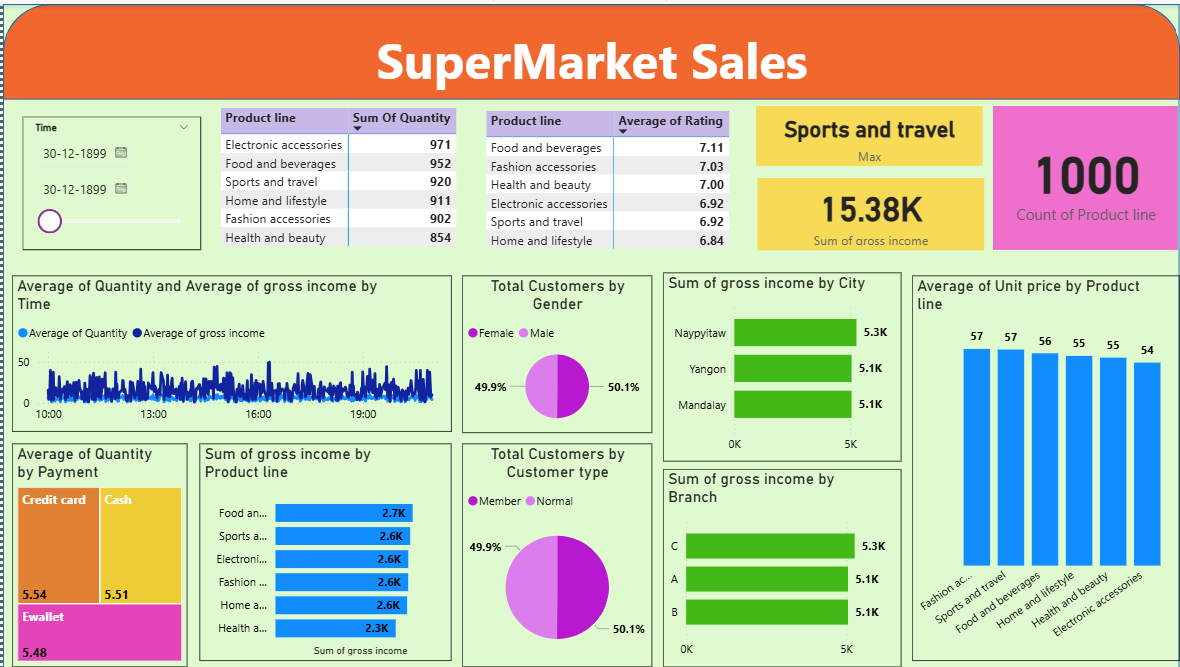

This screenshot's page, from the dashboard's own definition file:
{"tool":"powerbi","page":{"name":"Page 1","canvas":[1280,720],"ordinal":0},"visuals":[{"type":"shape","box":[0,0,1271.1,720.6],"z":0},{"type":"shape","box":[0,0,1271.9,103.3],"z":1000},{"type":"pivotTable","fields":{"Rows":["supermarket.Product line"],"Values":["Table.Sum Of_Quantity"]},"box":[210.6,121.5,275.4,186.3],"z":2000},{"type":"pivotTable","fields":{"Rows":["supermarket.Product line"],"Values":["Avg(supermarket.Rating)"]},"box":[486.9,121.3,280.3,186],"z":3000},{"type":"card","fields":{"Values":["Table.Max"]},"box":[765.6,121.5,287.6,77],"z":4000},{"type":"card","fields":{"Values":["CountNonNull(supermarket.Product line)"]},"box":[1065.6,121.3,204.9,172.1],"z":5000},{"type":"lineChart","fields":{"Category":["supermarket.Time"],"Y":["Avg(supermarket.Quantity)","Avg(supermarket.gross income)"]},"box":[9.7,319,440.4,168.4],"z":6000},{"type":"pieChart","fields":{"Y":["Table.Total Customers"],"Category":["supermarket.Gender"]},"box":[462.3,319.7,221.3,168.9],"z":7000},{"type":"clusteredBarChart","fields":{"Category":["supermarket.City"],"Y":["Sum(supermarket.gross income)"]},"box":[702.7,319,257.5,204],"z":8000},{"type":"clusteredColumnChart","fields":{"Category":["supermarket.Product line"],"Y":["Avg(supermarket.Unit price)"]},"box":[972.1,319.7,298.4,396.7],"z":9000},{"type":"treemap","fields":{"Values":["Avg(supermarket.Quantity)"],"Group":["supermarket.Payment"]},"box":[10.2,501.7,440.7,213.6],"z":10000},{"type":"pieChart","fields":{"Y":["Table.Total Customers"],"Category":["supermarket.Customer type"]},"box":[462.3,501.6,221.3,214.8],"z":11000},{"type":"clusteredBarChart","fields":{"Y":["Sum(supermarket.gross income)"],"Category":["supermarket.Branch"]},"box":[701.1,536,259.1,179.7],"z":12000},{"type":"slicer","fields":{"Values":["supermarket.Time"]},"box":[21.3,121.3,175.4,186.9],"z":13000},{"type":"card","fields":{"Values":["Sum(supermarket.gross income)"]},"box":[765.6,210.6,287.6,83],"z":14000}]}

Visuals, with their boxes in screenshot pixels (x1, y1, x2, y2), scaled from the page's 1280x720 canvas onto the 1180x667 screenshot:
shape: <region>0, 0, 1172, 666</region>
shape: <region>0, 0, 1173, 96</region>
pivotTable - supermarket.Product line x Table.Sum Of_Quantity: <region>194, 113, 448, 285</region>
pivotTable - supermarket.Product line x Avg(supermarket.Rating): <region>449, 112, 707, 285</region>
card - Table.Max: <region>706, 113, 971, 184</region>
card - CountNonNull(supermarket.Product line): <region>982, 112, 1171, 272</region>
lineChart - supermarket.Time x Avg(supermarket.Quantity): <region>9, 296, 415, 452</region>
pieChart - Table.Total Customers x supermarket.Gender: <region>426, 296, 630, 453</region>
clusteredBarChart - supermarket.City x Sum(supermarket.gross income): <region>648, 296, 885, 485</region>
clusteredColumnChart - supermarket.Product line x Avg(supermarket.Unit price): <region>896, 296, 1171, 664</region>
treemap - Avg(supermarket.Quantity) x supermarket.Payment: <region>9, 465, 416, 663</region>
pieChart - Table.Total Customers x supermarket.Customer type: <region>426, 465, 630, 664</region>
clusteredBarChart - Sum(supermarket.gross income) x supermarket.Branch: <region>646, 497, 885, 663</region>
slicer - supermarket.Time: <region>20, 112, 181, 286</region>
card - Sum(supermarket.gross income): <region>706, 195, 971, 272</region>
